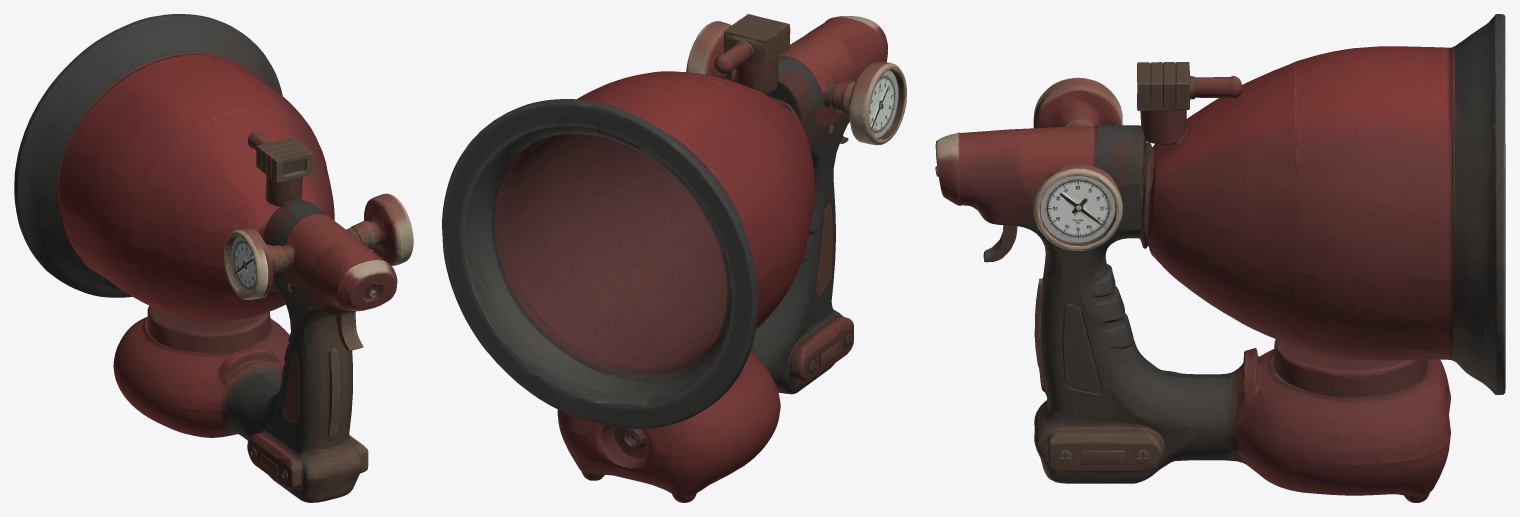
Rendered from ball-cannon.glb.
The picture shows the model from 3 angles, left to right: view 1: azimuth 30°, elevation 25°; view 2: azimuth 150°, elevation 25°; view 3: azimuth 270°, elevation 25°; orthographic projection. The views are drawn at different scales.
Parts seen in each view (by area): view 1: ball-cannon; view 2: ball-cannon; view 3: ball-cannon.
Part boxes in pixels (bbox=[...]): ball-cannon: bbox=[14, 14, 413, 502]; ball-cannon: bbox=[442, 14, 906, 502]; ball-cannon: bbox=[935, 14, 1505, 502].
Size of the model in its own units: 0.6428 by 0.8117 by 0.943.
Materials: 1 (1 with a texture image).
